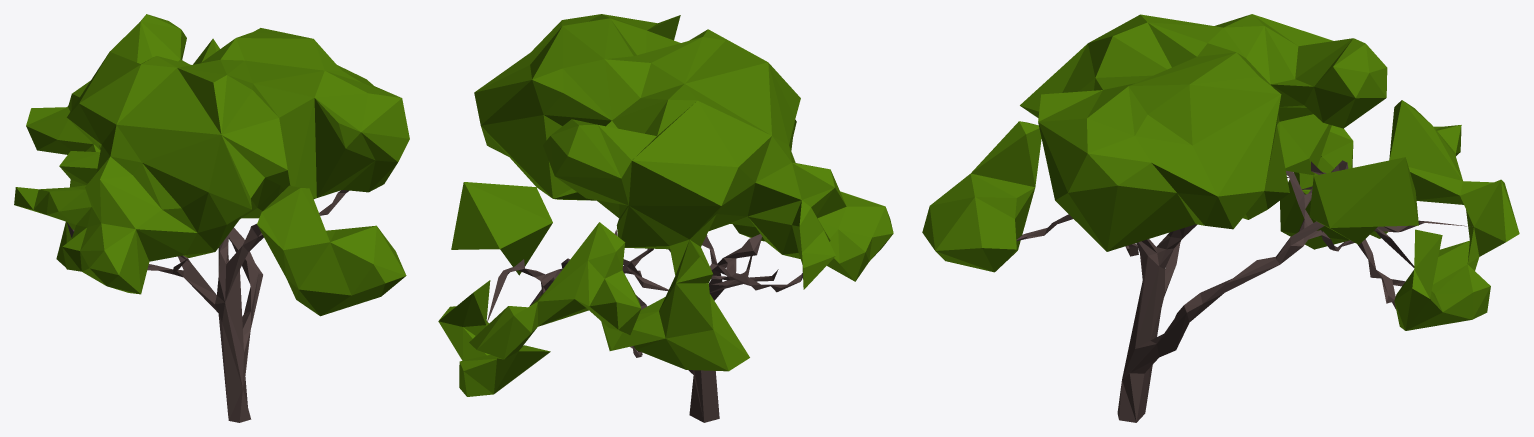
The model's file is tree.glb.
3 views of the same model, side by side, from view 1: azimuth 30°, elevation 25°; view 2: azimuth 150°, elevation 25°; view 3: azimuth 270°, elevation 25° (orthographic). The views are drawn at different scales.
Parts seen in each view (by area): view 1: PaperTrees.057; view 2: PaperTrees.057; view 3: PaperTrees.057.
Boxes of the visible parts, x1=… form: PaperTrees.057: x1=14, y1=14, x2=409, y2=422; PaperTrees.057: x1=438, y1=14, x2=893, y2=422; PaperTrees.057: x1=922, y1=14, x2=1519, y2=422.
Size of the model in its own units: 11.7 by 11.65 by 16.12.
